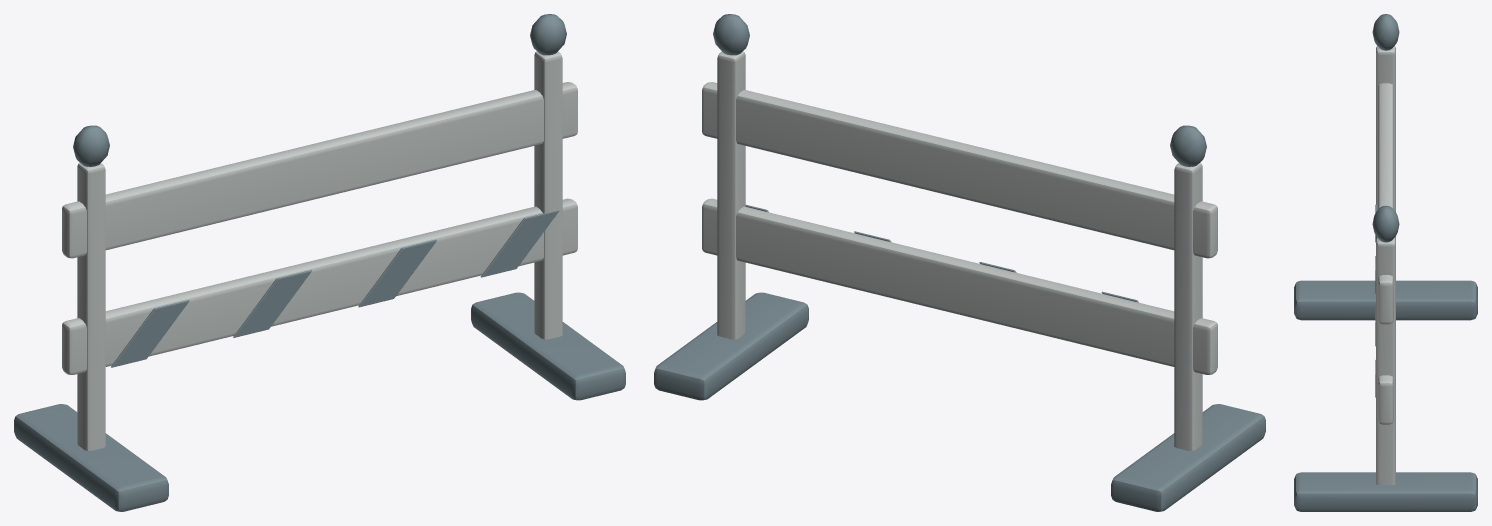
File: road-barrier.glb
3 views of the same model, side by side, from view 1: azimuth 30°, elevation 25°; view 2: azimuth 150°, elevation 25°; view 3: azimuth 270°, elevation 25° (orthographic). The views are drawn at different scales.
Visible parts, largest first — view 1: rail.001, rail, foot.001, foot, upright, upright.001, diagonal_warning, diagonal_warning.001, diagonal_warning.002, diagonal_warning.003, warning_lamp, warning_lamp.001; view 2: rail, rail.001, foot.001, foot, upright, upright.001, warning_lamp, warning_lamp.001; view 3: foot.001, foot, upright.001, rail.001, upright, rail, warning_lamp, warning_lamp.001.
Part boxes in pixels (x1=…): rail.001: x1=62, y1=82, x2=577, y2=258; rail: x1=62, y1=198, x2=577, y2=374; foot.001: x1=471, y1=292, x2=625, y2=400; foot: x1=14, y1=404, x2=168, y2=511; upright: x1=77, y1=163, x2=105, y2=450; upright.001: x1=534, y1=51, x2=562, y2=339; diagonal_warning: x1=111, y1=300, x2=189, y2=367; diagonal_warning.001: x1=233, y1=270, x2=311, y2=337; diagonal_warning.002: x1=358, y1=239, x2=436, y2=307; diagonal_warning.003: x1=480, y1=210, x2=559, y2=277; warning_lamp: x1=73, y1=125, x2=109, y2=166; warning_lamp.001: x1=530, y1=14, x2=566, y2=55; rail: x1=702, y1=198, x2=1217, y2=374; rail.001: x1=702, y1=82, x2=1217, y2=258; foot.001: x1=654, y1=292, x2=808, y2=400; foot: x1=1111, y1=404, x2=1265, y2=511; upright: x1=1174, y1=163, x2=1202, y2=450; upright.001: x1=717, y1=51, x2=745, y2=339; warning_lamp: x1=1170, y1=125, x2=1206, y2=166; warning_lamp.001: x1=713, y1=14, x2=749, y2=55; foot.001: x1=1294, y1=472, x2=1477, y2=511; foot: x1=1294, y1=280, x2=1477, y2=320; upright.001: x1=1376, y1=237, x2=1395, y2=485; rail.001: x1=1378, y1=83, x2=1393, y2=324; upright: x1=1376, y1=46, x2=1395, y2=239; rail: x1=1378, y1=375, x2=1393, y2=424; warning_lamp: x1=1372, y1=14, x2=1399, y2=50; warning_lamp.001: x1=1372, y1=206, x2=1399, y2=242.
Size of the model in its own units: 1.88 by 1.21 by 0.68.
